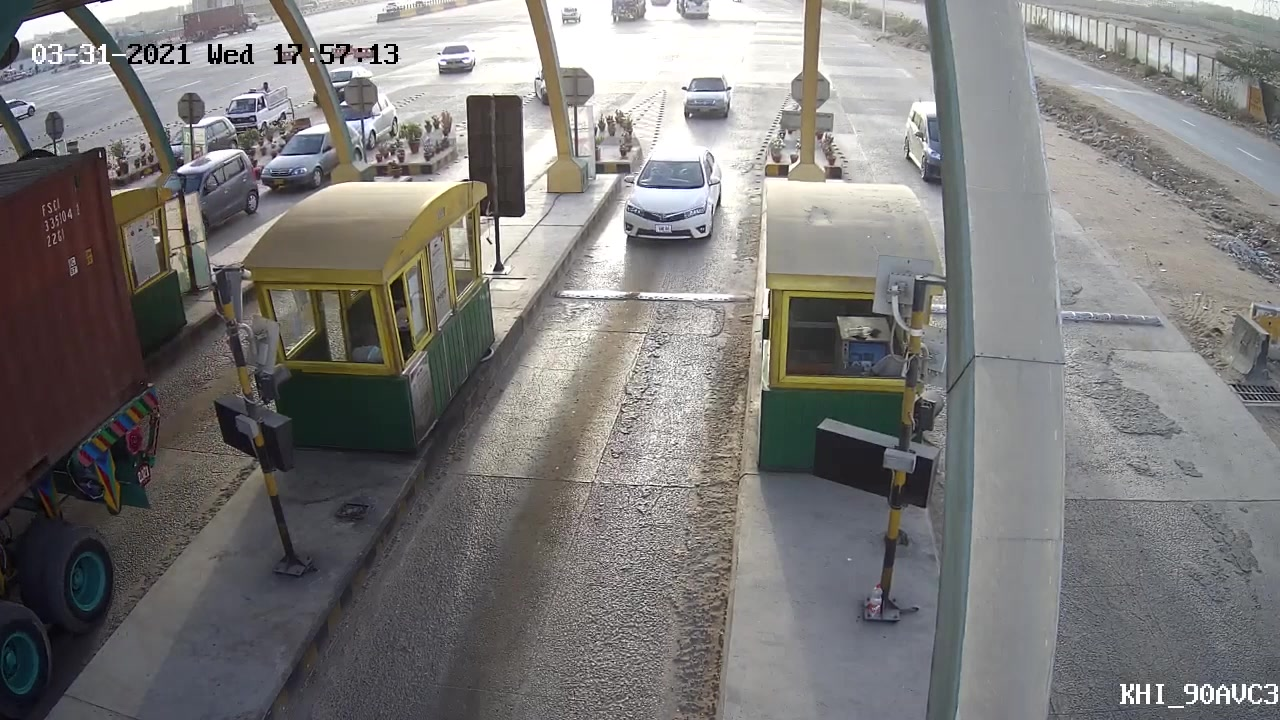F1: (610, 141, 730, 260)
